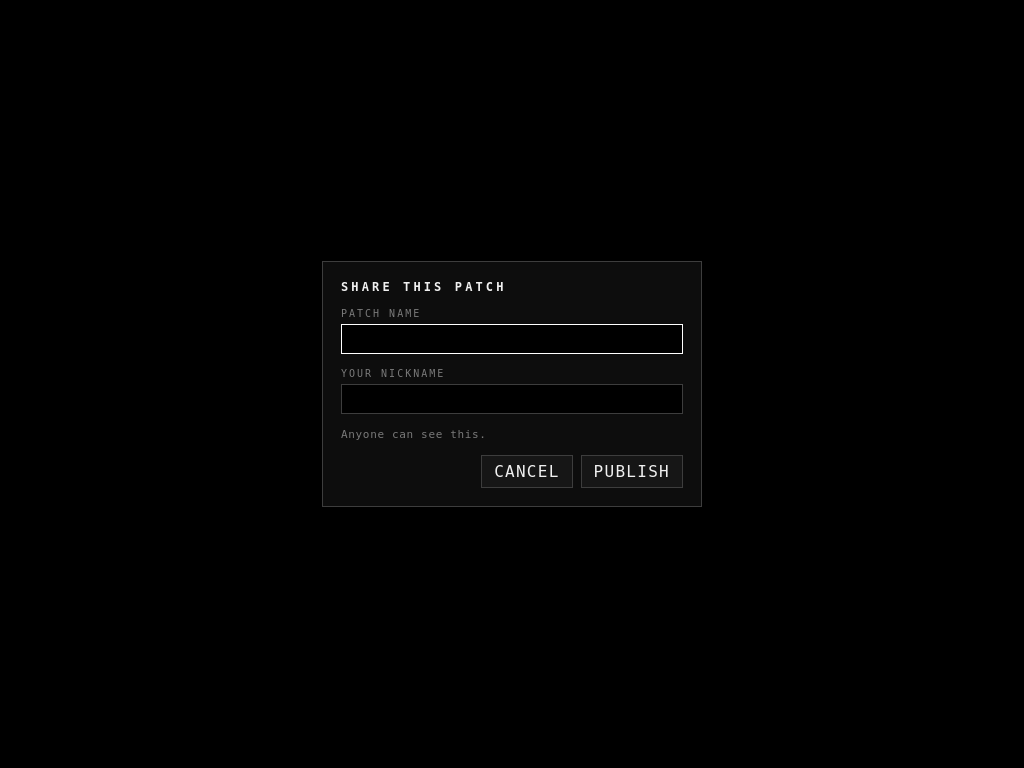
Test case: SharePatch › stays put and says what is missing rather than publishing something nameless
Type "nick" into the field labelled "YOUR NICKNAME" at (512, 399), box [341,384,683,414]
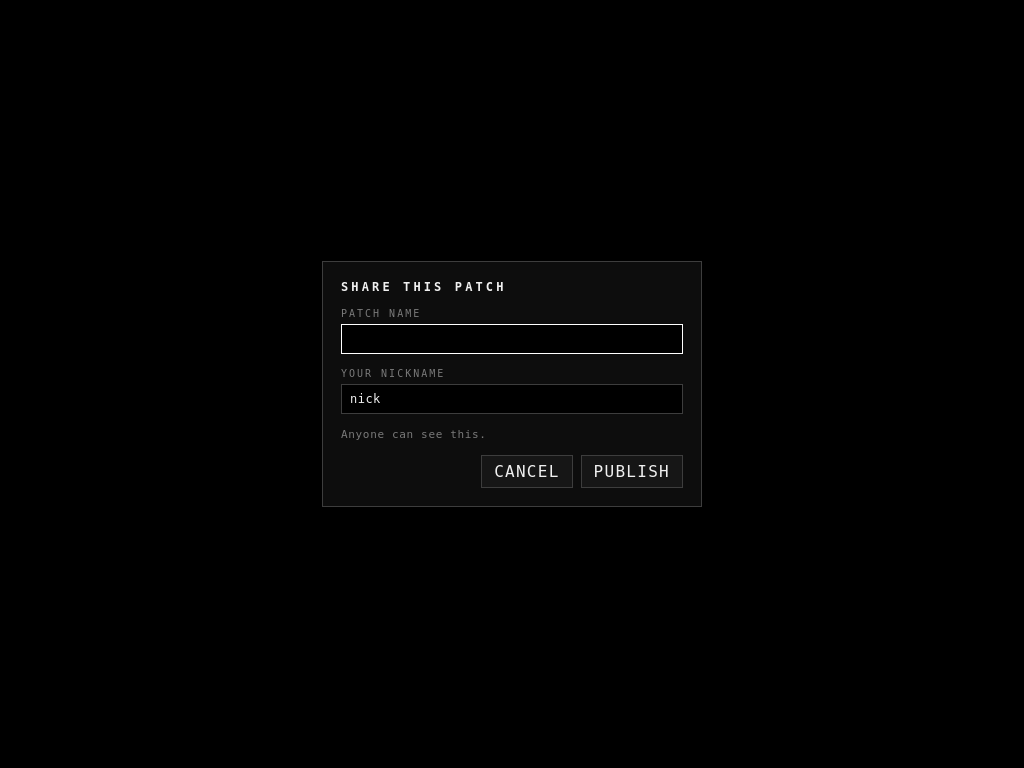
Click the button "PUBLISH" at (632, 472), box [581,455,683,488]
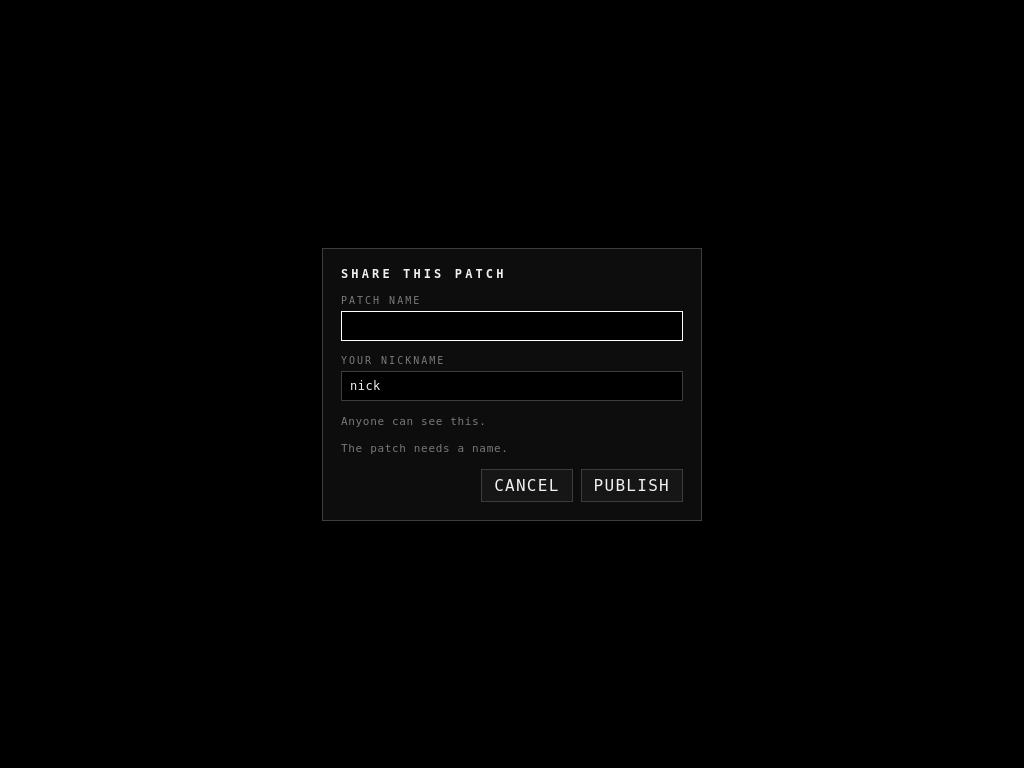
Expected: the message shows "name", [341,442,508,454]
